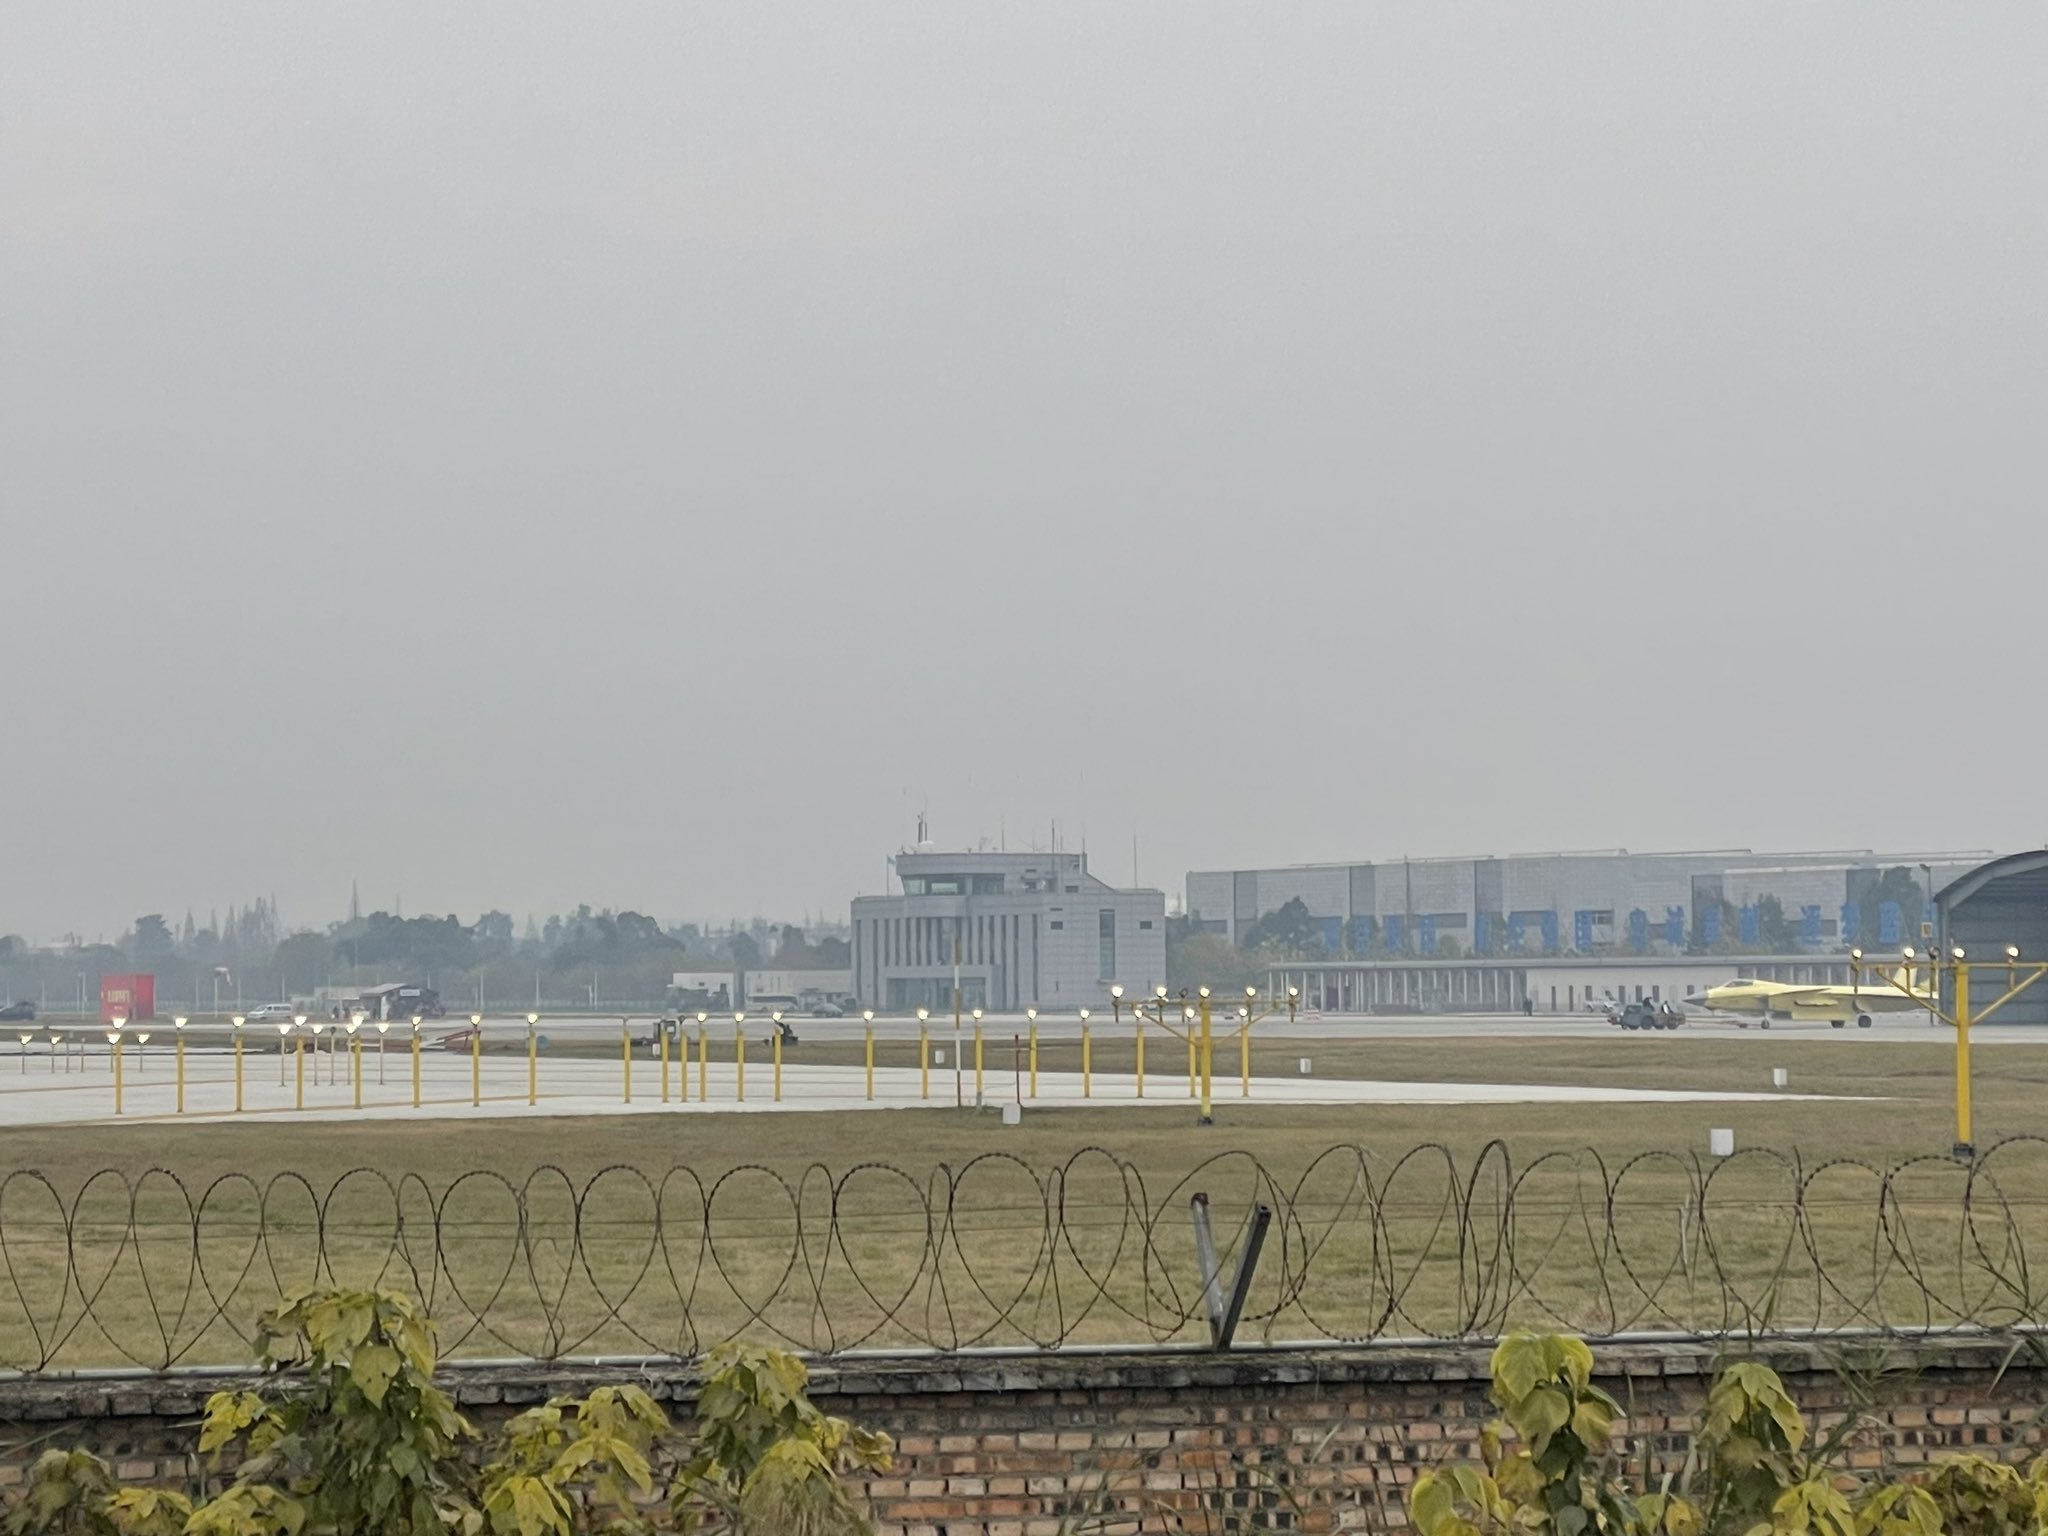J20: (1680, 958, 1938, 1029)
